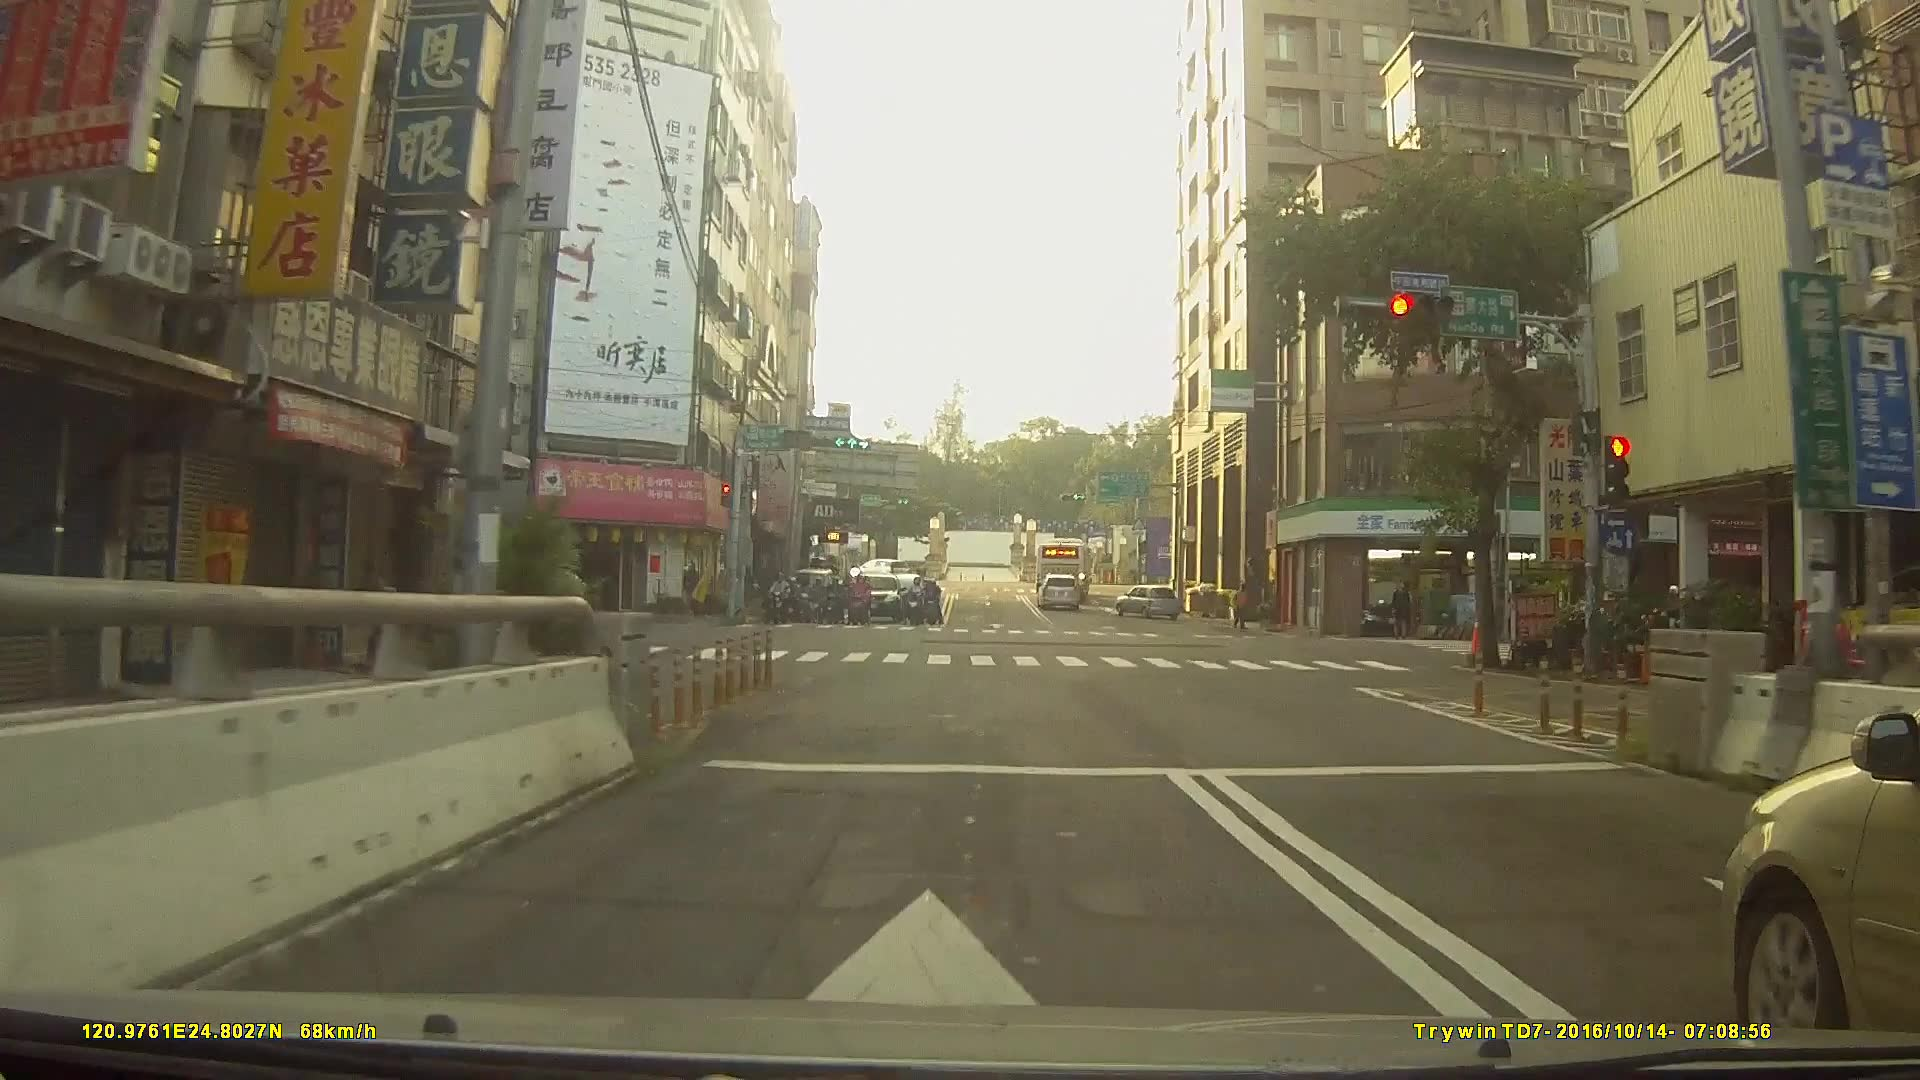pedestrian: (1388, 583, 1414, 641), (1231, 585, 1251, 632)
rider: (766, 569, 795, 625), (847, 576, 872, 626), (824, 578, 848, 630), (905, 580, 927, 630), (796, 578, 819, 624), (922, 587, 942, 635)
vehicle: (1723, 692, 1920, 1050), (848, 576, 904, 631), (1032, 540, 1092, 591), (1112, 583, 1181, 618), (852, 555, 911, 585), (1036, 575, 1084, 609)
